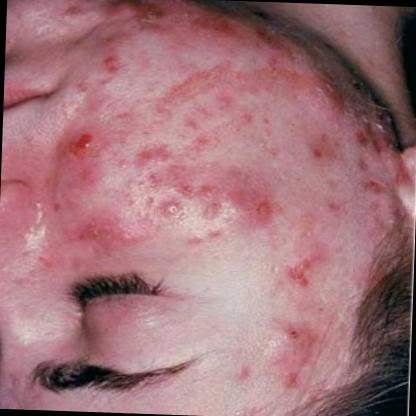Acne: (241, 178, 282, 236), (271, 314, 324, 354), (89, 42, 132, 86), (62, 126, 108, 166), (157, 194, 182, 223)
